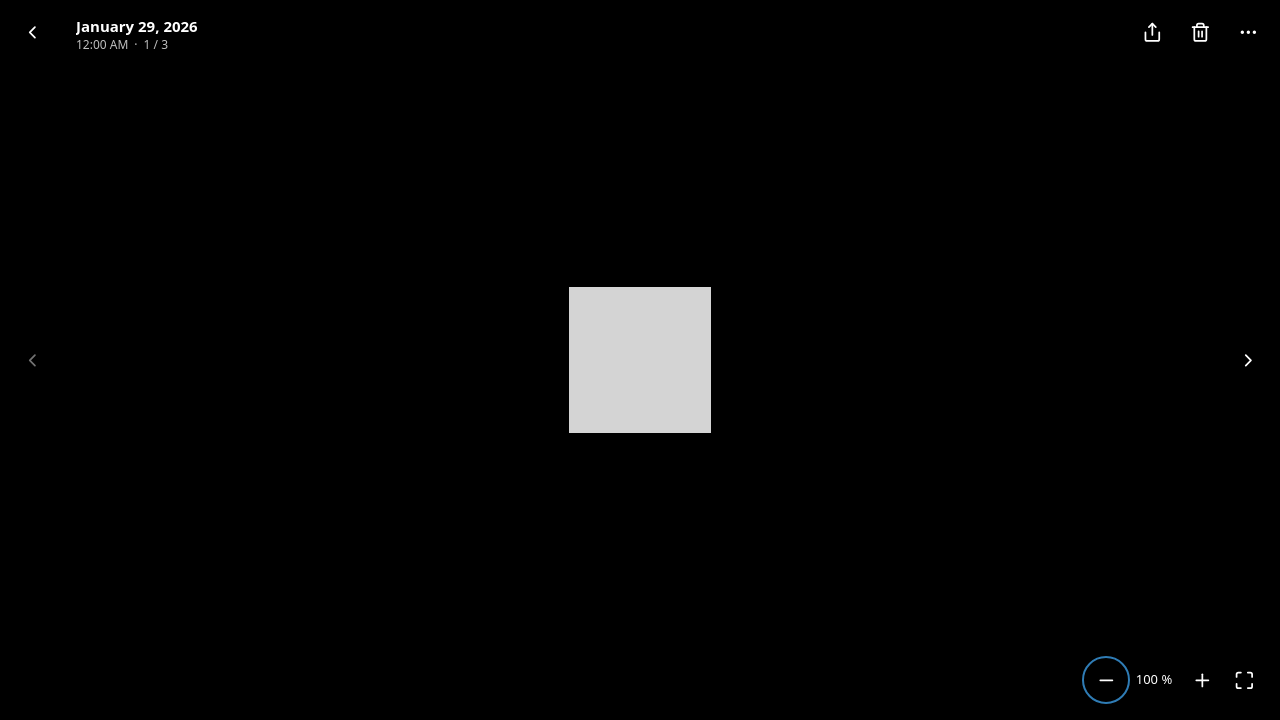
Test case: Lightbox menu › is a menu button that lists the secondary actions that apply
Click the button named "More". click: (1248, 32)
box: [1228, 12, 1268, 52]
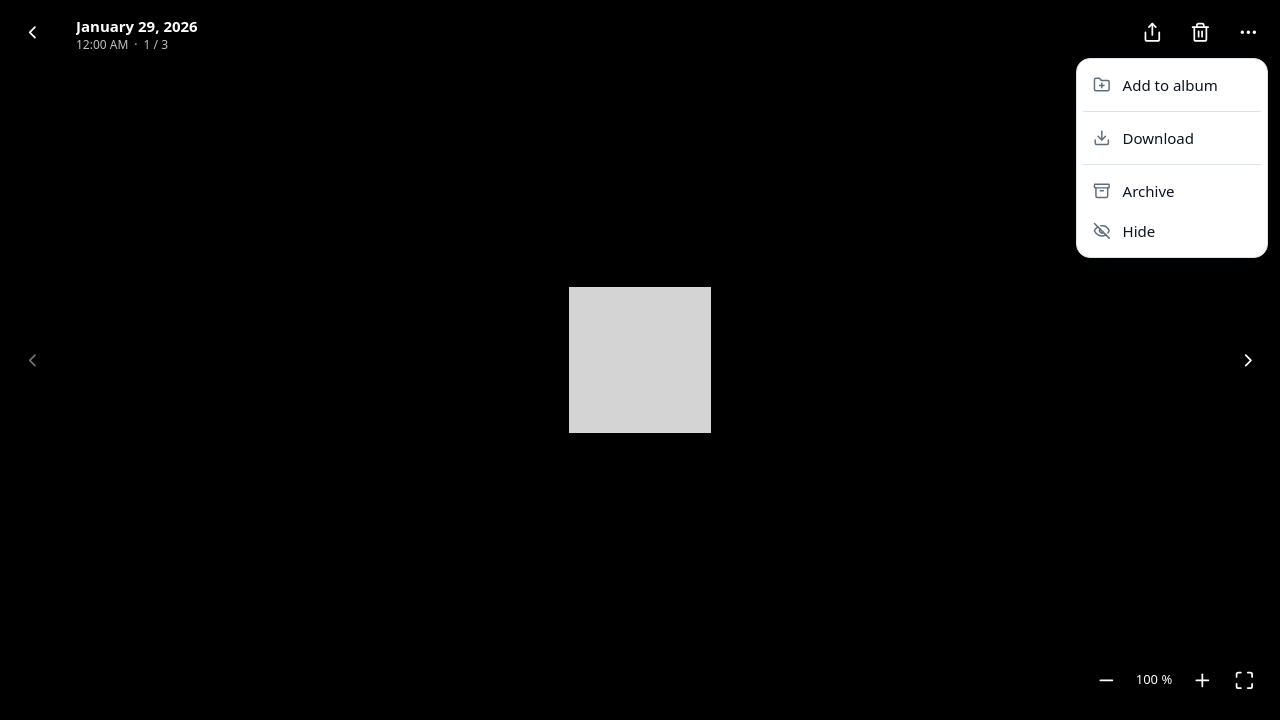
Result: the menu is shown at [1076, 58, 1268, 258]
